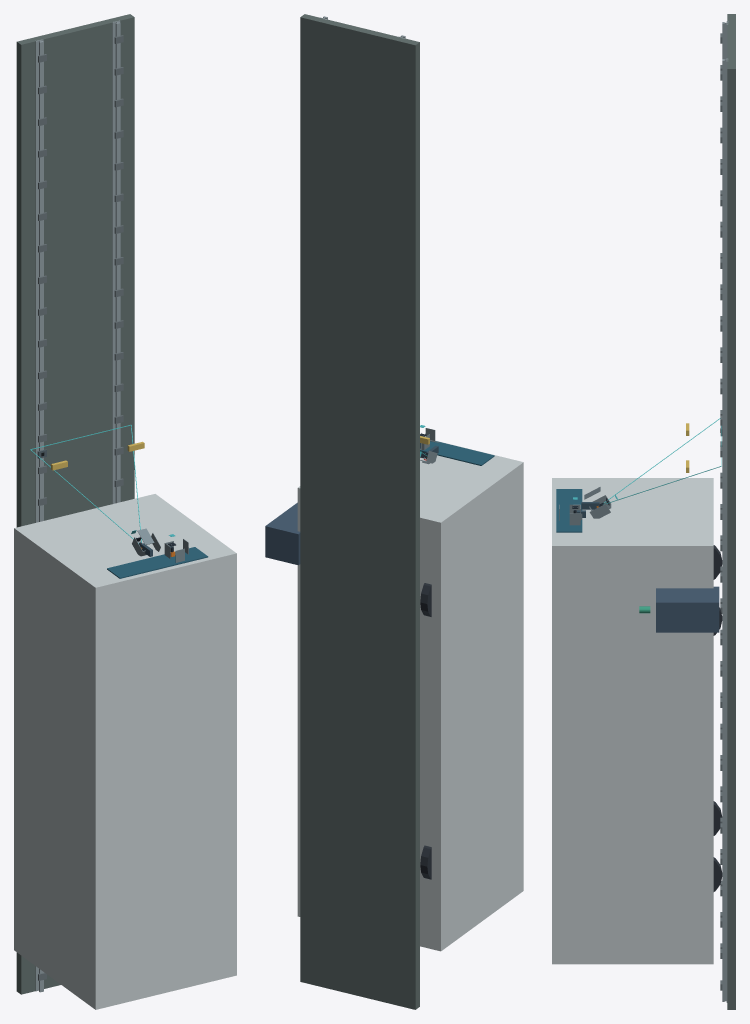
The model's file is platform_concept.obj.
The picture shows the model from 3 angles, left to right: view 1: azimuth 30°, elevation 25°; view 2: azimuth 150°, elevation 25°; view 3: azimuth 270°, elevation 25°; orthographic projection. The views are drawn at different scales.
Parts seen in each view (by area): view 1: vehicle_67, base_0, rail_4, rail_1, rail_foot_3, rail_foot_6, glass_68; view 2: base_0, vehicle_67, cabinet_120, glass_68; view 3: vehicle_67, base_0, cabinet_120, rail_4, rail_web_5, rail_foot_6, glass_68.
Boxes of the visible parts, <box> form: vehicle_67: <box>14,494,236,1009</box>; base_0: <box>16,14,134,994</box>; rail_4: <box>115,22,120,503</box>; rail_1: <box>39,41,43,992</box>; rail_foot_3: <box>35,39,43,991</box>; rail_foot_6: <box>112,20,120,503</box>; glass_68: <box>107,547,208,578</box>; base_0: <box>300,14,419,1009</box>; vehicle_67: <box>297,440,523,951</box>; cabinet_120: <box>265,502,300,565</box>; glass_68: <box>420,441,494,465</box>; vehicle_67: <box>552,478,713,964</box>; base_0: <box>727,14,735,1009</box>; cabinet_120: <box>656,586,719,632</box>; rail_4: <box>722,59,724,1001</box>; rail_web_5: <box>724,59,726,1001</box>; rail_foot_6: <box>726,58,728,1002</box>; glass_68: <box>556,489,582,532</box>.
Size of the model in its own units: 3.38 by 18 by 3.19.
